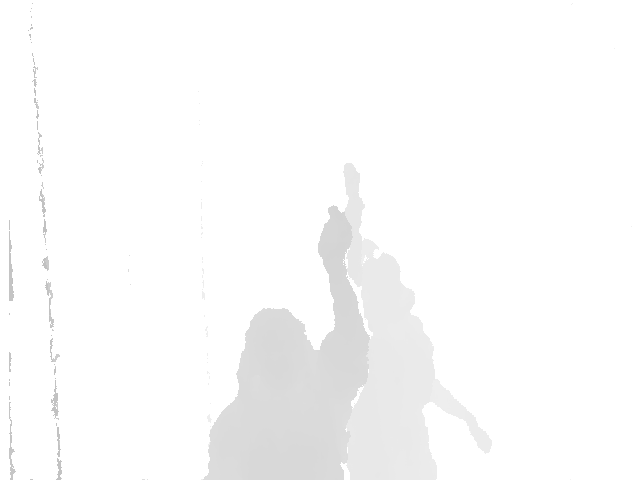hand: (316, 206, 354, 263), (343, 161, 362, 198)
head: (238, 307, 311, 383), (358, 242, 402, 294)
person: (332, 161, 493, 480), (202, 206, 370, 479)
